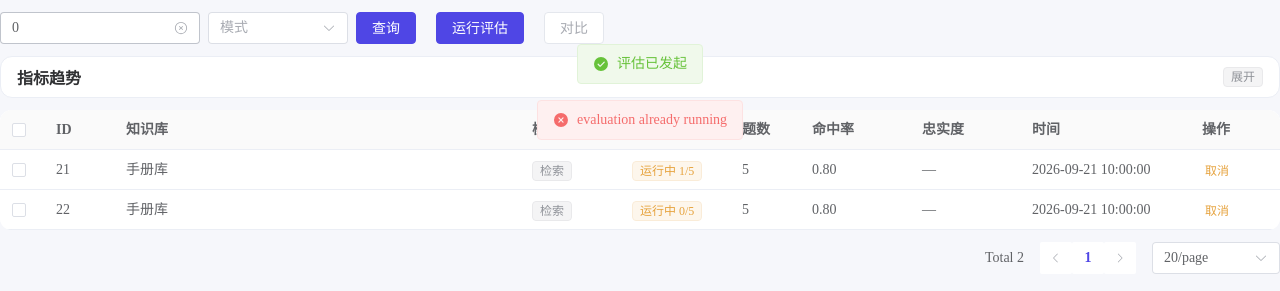
it: EvalPage › keeps selection across silent polling refresh (row-key + reserve-selection)
The image size is (1280, 291).
Click the checkbox in the row of "运行中 1/5": click(19, 170) [12,162,26,176]
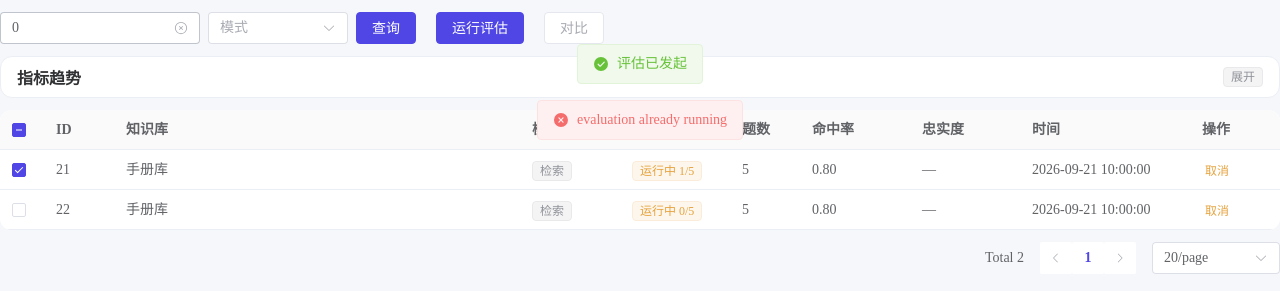
Click the checkbox next to "22": click(19, 210) [12,202,26,216]
Wait 6200 ms
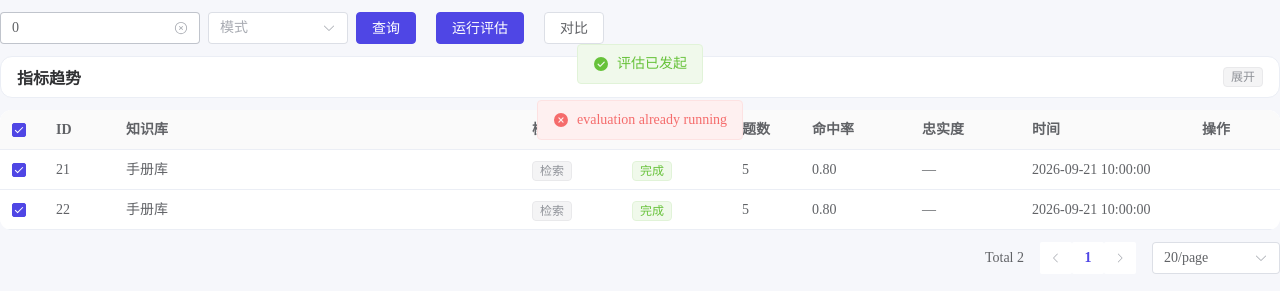
Now the button with class "cmp-btn" is enabled, box [544,12,604,44]
